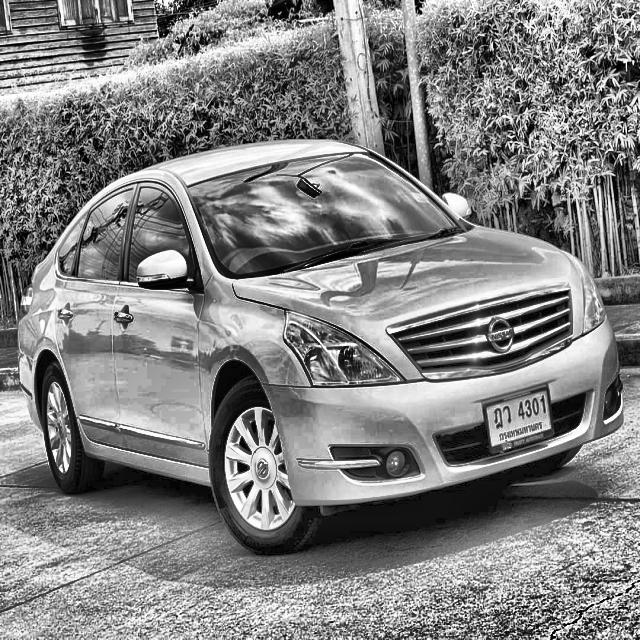license-plate: (480, 378, 555, 459)
